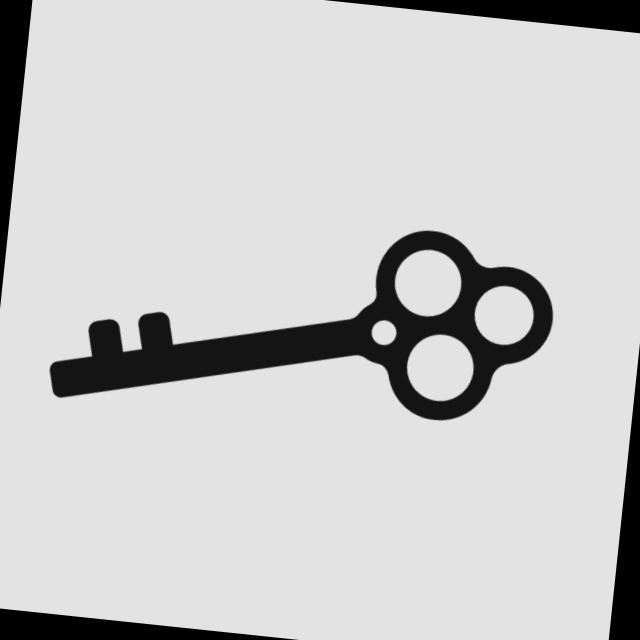key: (44, 185, 574, 458)
